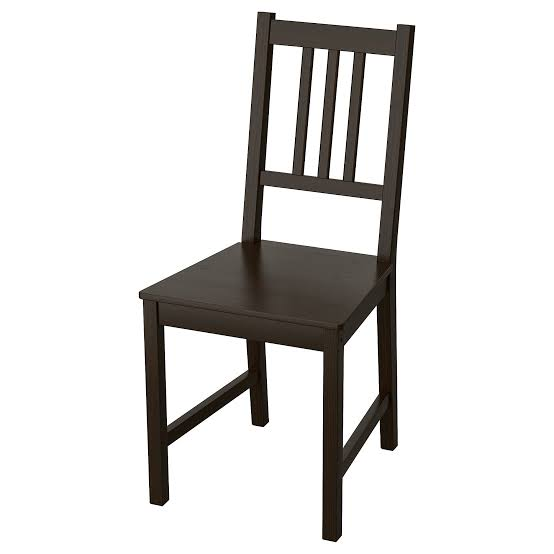chair: (134, 10, 422, 549)
